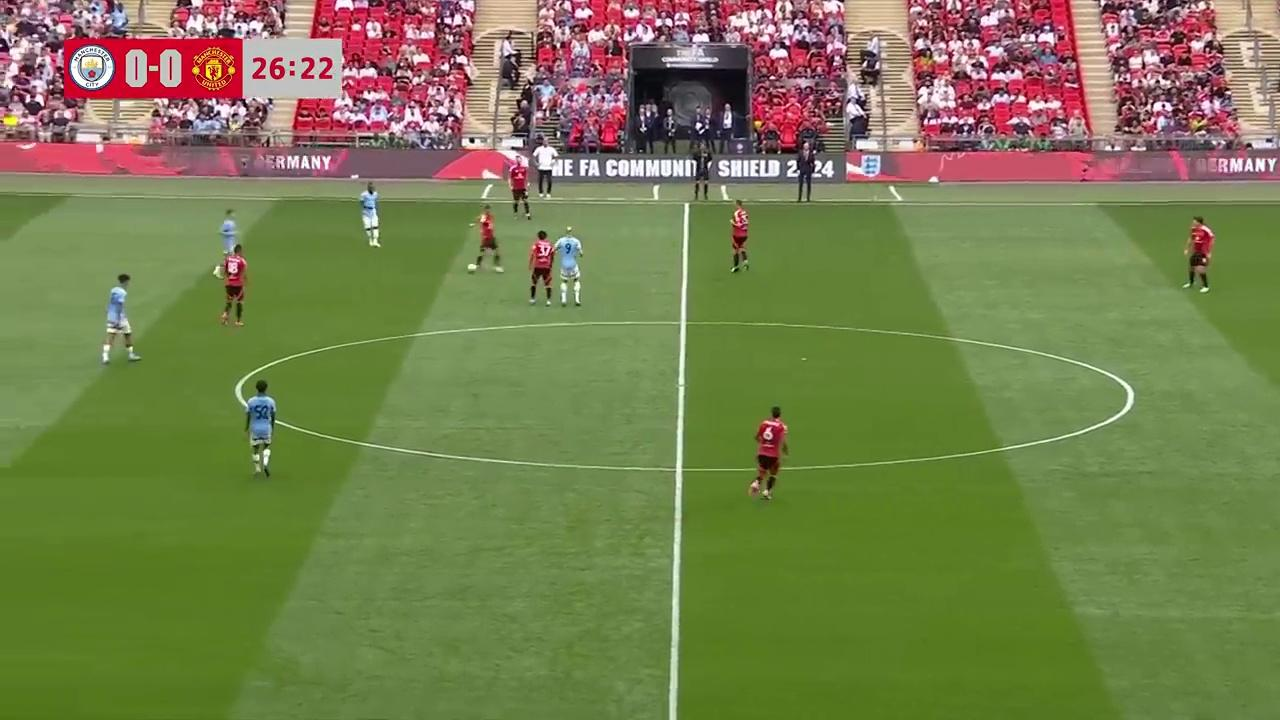player: (748, 405, 788, 500), (100, 273, 141, 365), (239, 380, 277, 478), (217, 244, 249, 327), (467, 205, 504, 272), (554, 226, 584, 307), (1182, 217, 1214, 292), (527, 229, 555, 306), (216, 209, 241, 271), (729, 201, 750, 273), (357, 183, 380, 247), (508, 161, 532, 220)
